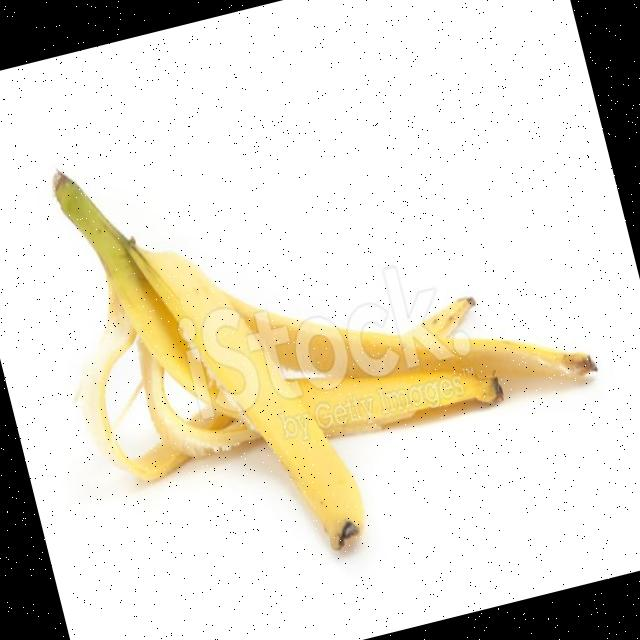banana-peel: (20, 52, 624, 604)
